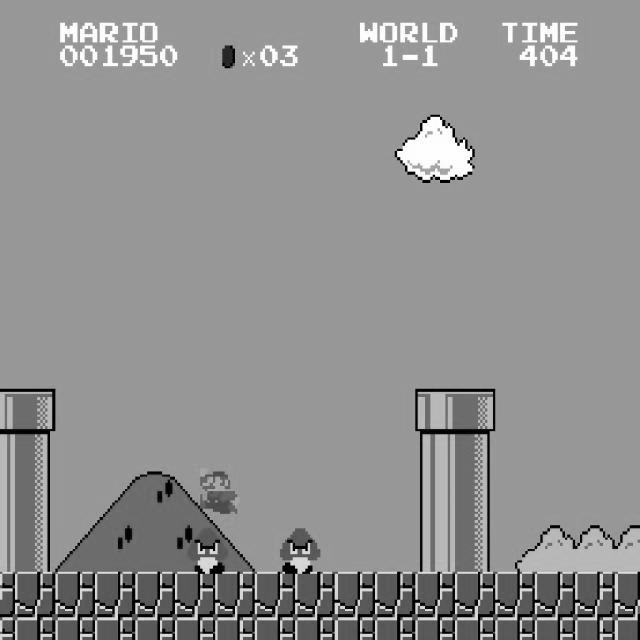11- little_mario: (197, 466, 240, 514)
14- pipe: (414, 434, 456, 480), (414, 480, 456, 526), (414, 526, 456, 572), (454, 434, 496, 480), (454, 480, 496, 526), (454, 526, 496, 572), (15, 434, 56, 480), (15, 480, 56, 526), (15, 526, 56, 572), (0, 434, 15, 480), (0, 480, 15, 526), (0, 526, 15, 572)
15- pipe_head: (414, 388, 456, 434), (454, 388, 496, 434), (15, 388, 56, 434), (0, 388, 15, 434)
17- undestructible_block: (54, 572, 96, 618), (94, 572, 136, 618), (134, 572, 176, 618), (174, 572, 216, 618), (214, 572, 256, 618), (254, 572, 296, 618), (294, 572, 336, 618), (334, 572, 376, 618), (374, 572, 416, 618), (414, 572, 456, 618), (454, 572, 496, 618), (494, 572, 536, 618), (534, 572, 576, 618), (574, 572, 616, 618), (15, 572, 56, 618), (614, 571, 640, 617), (54, 617, 96, 640), (94, 617, 136, 640), (134, 617, 176, 640), (174, 617, 216, 640), (214, 617, 256, 640), (254, 617, 296, 640), (294, 617, 336, 640), (334, 617, 376, 640), (374, 617, 416, 640), (414, 617, 456, 640), (454, 617, 496, 640), (494, 617, 536, 640), (534, 617, 576, 640), (574, 617, 616, 640), (15, 617, 56, 640), (0, 572, 15, 618), (614, 617, 640, 639), (0, 617, 15, 640)
8- goomba: (185, 526, 228, 574), (277, 526, 320, 574)
